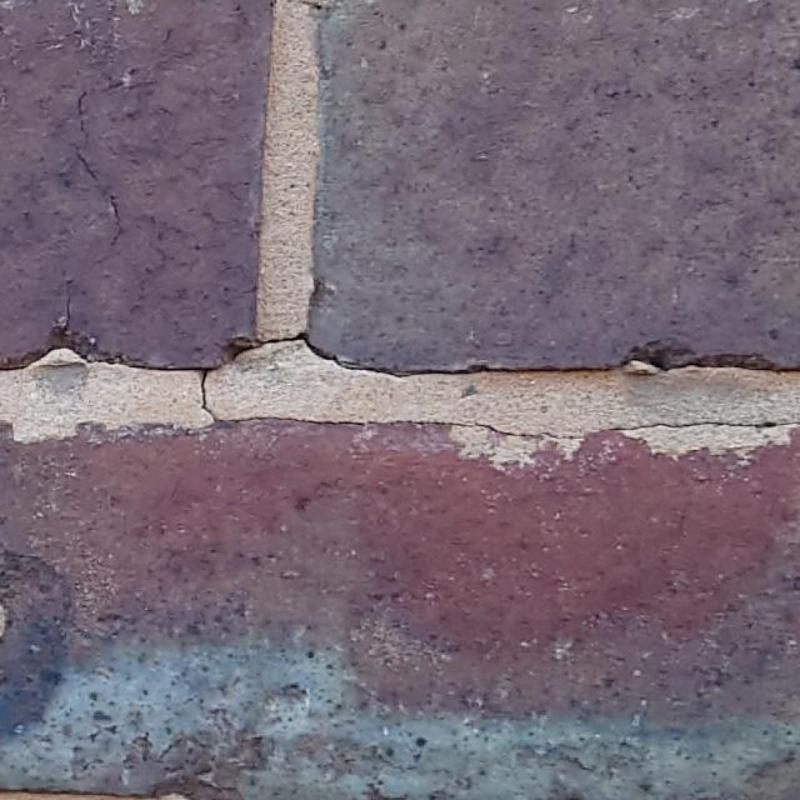crack: (231, 331, 408, 379), (403, 358, 799, 375), (0, 346, 211, 372), (216, 415, 478, 428), (604, 421, 799, 431), (477, 424, 583, 440), (199, 369, 219, 424)
